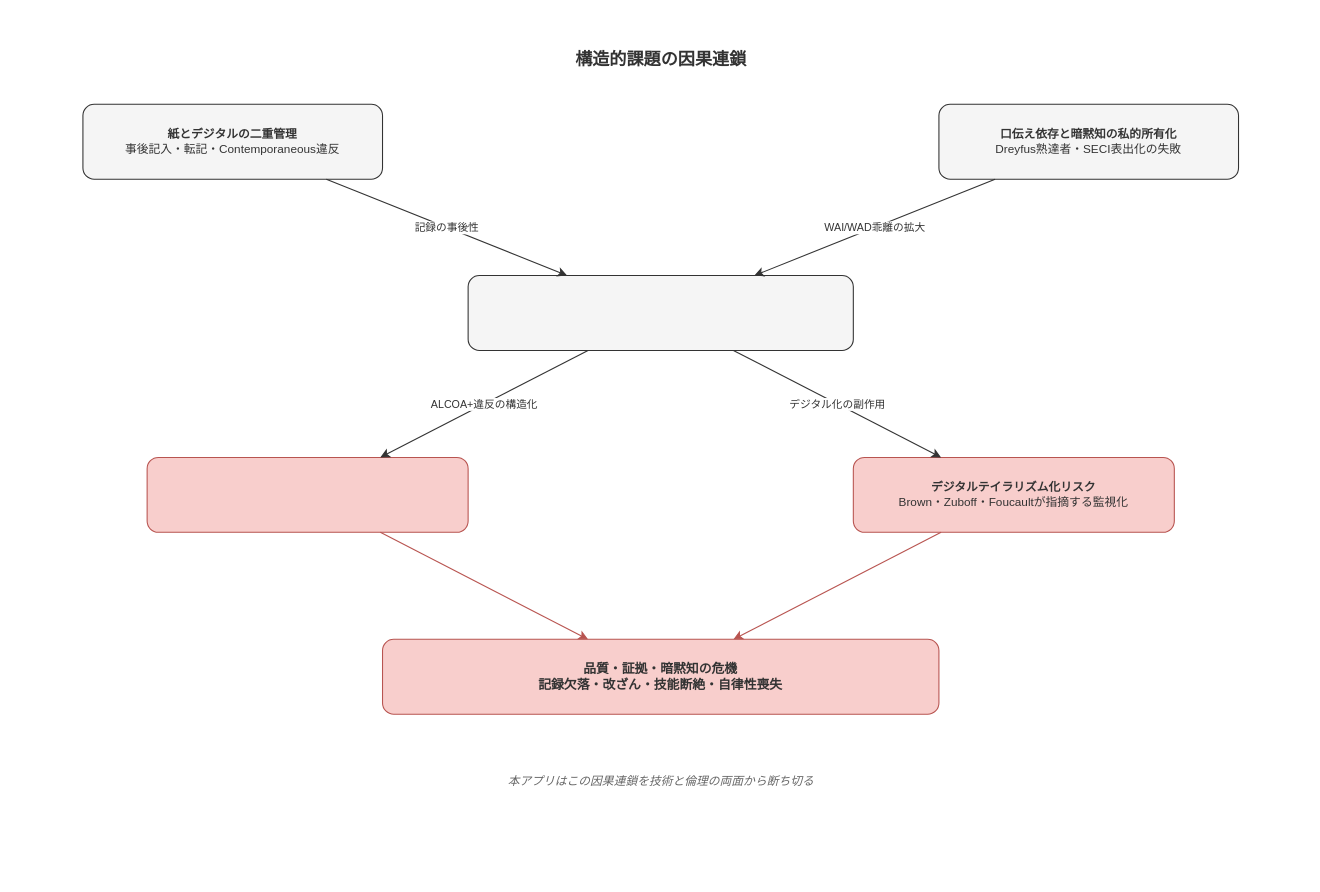
Some shapes in this 1320 by 892 pixel diagram are drawn without their labels. Here are the shapes that lost their labels. From the top down, the centre of each, then its label:
the point at 660,312: 手順とWADの乖離（Procedural Drift） Work-as-Imagined と Work-as-Done の分裂
the point at 307,494: 事後改ざんと記録の証拠性破壊 ALCOA+ Original原則の侵食
